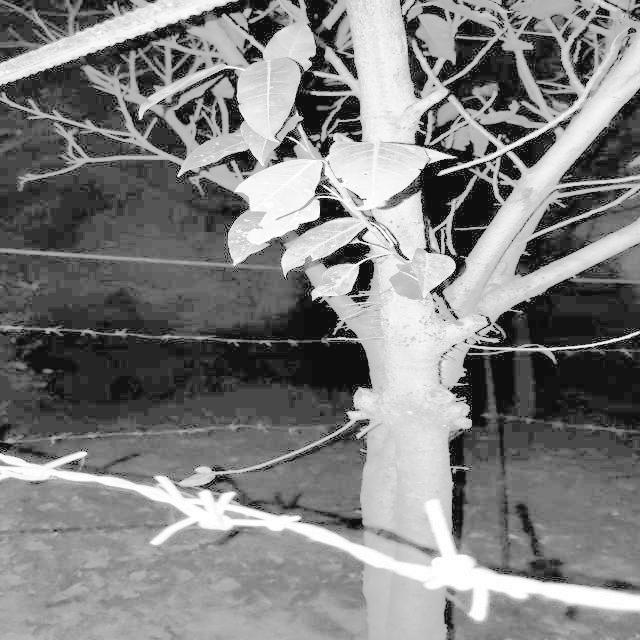Tree: (196, 0, 640, 640)
